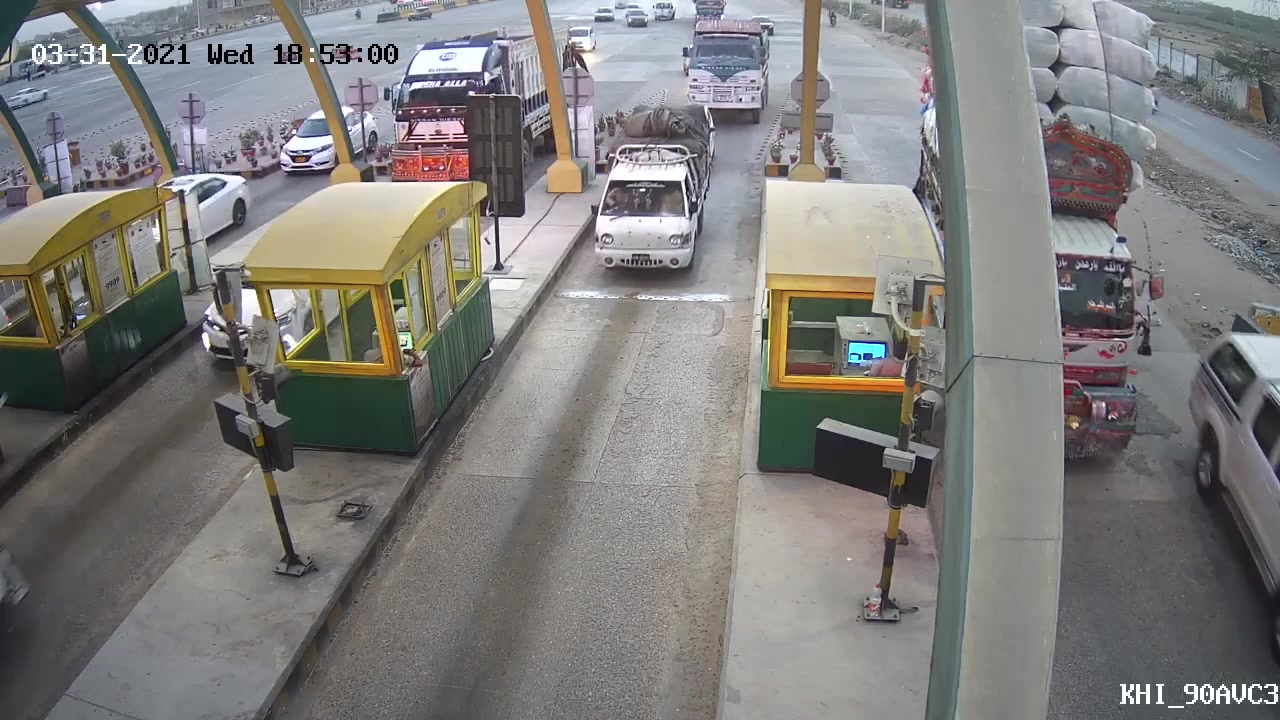F2: (584, 109, 727, 293)
